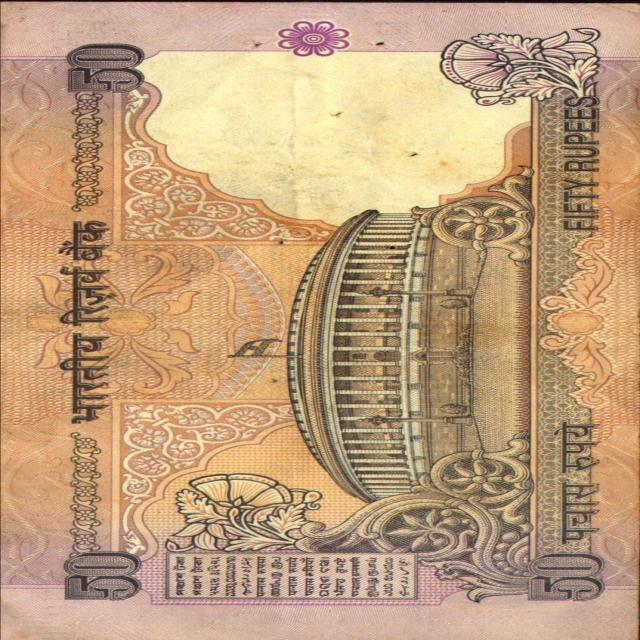50IndianRupees: (6, 0, 638, 637)
